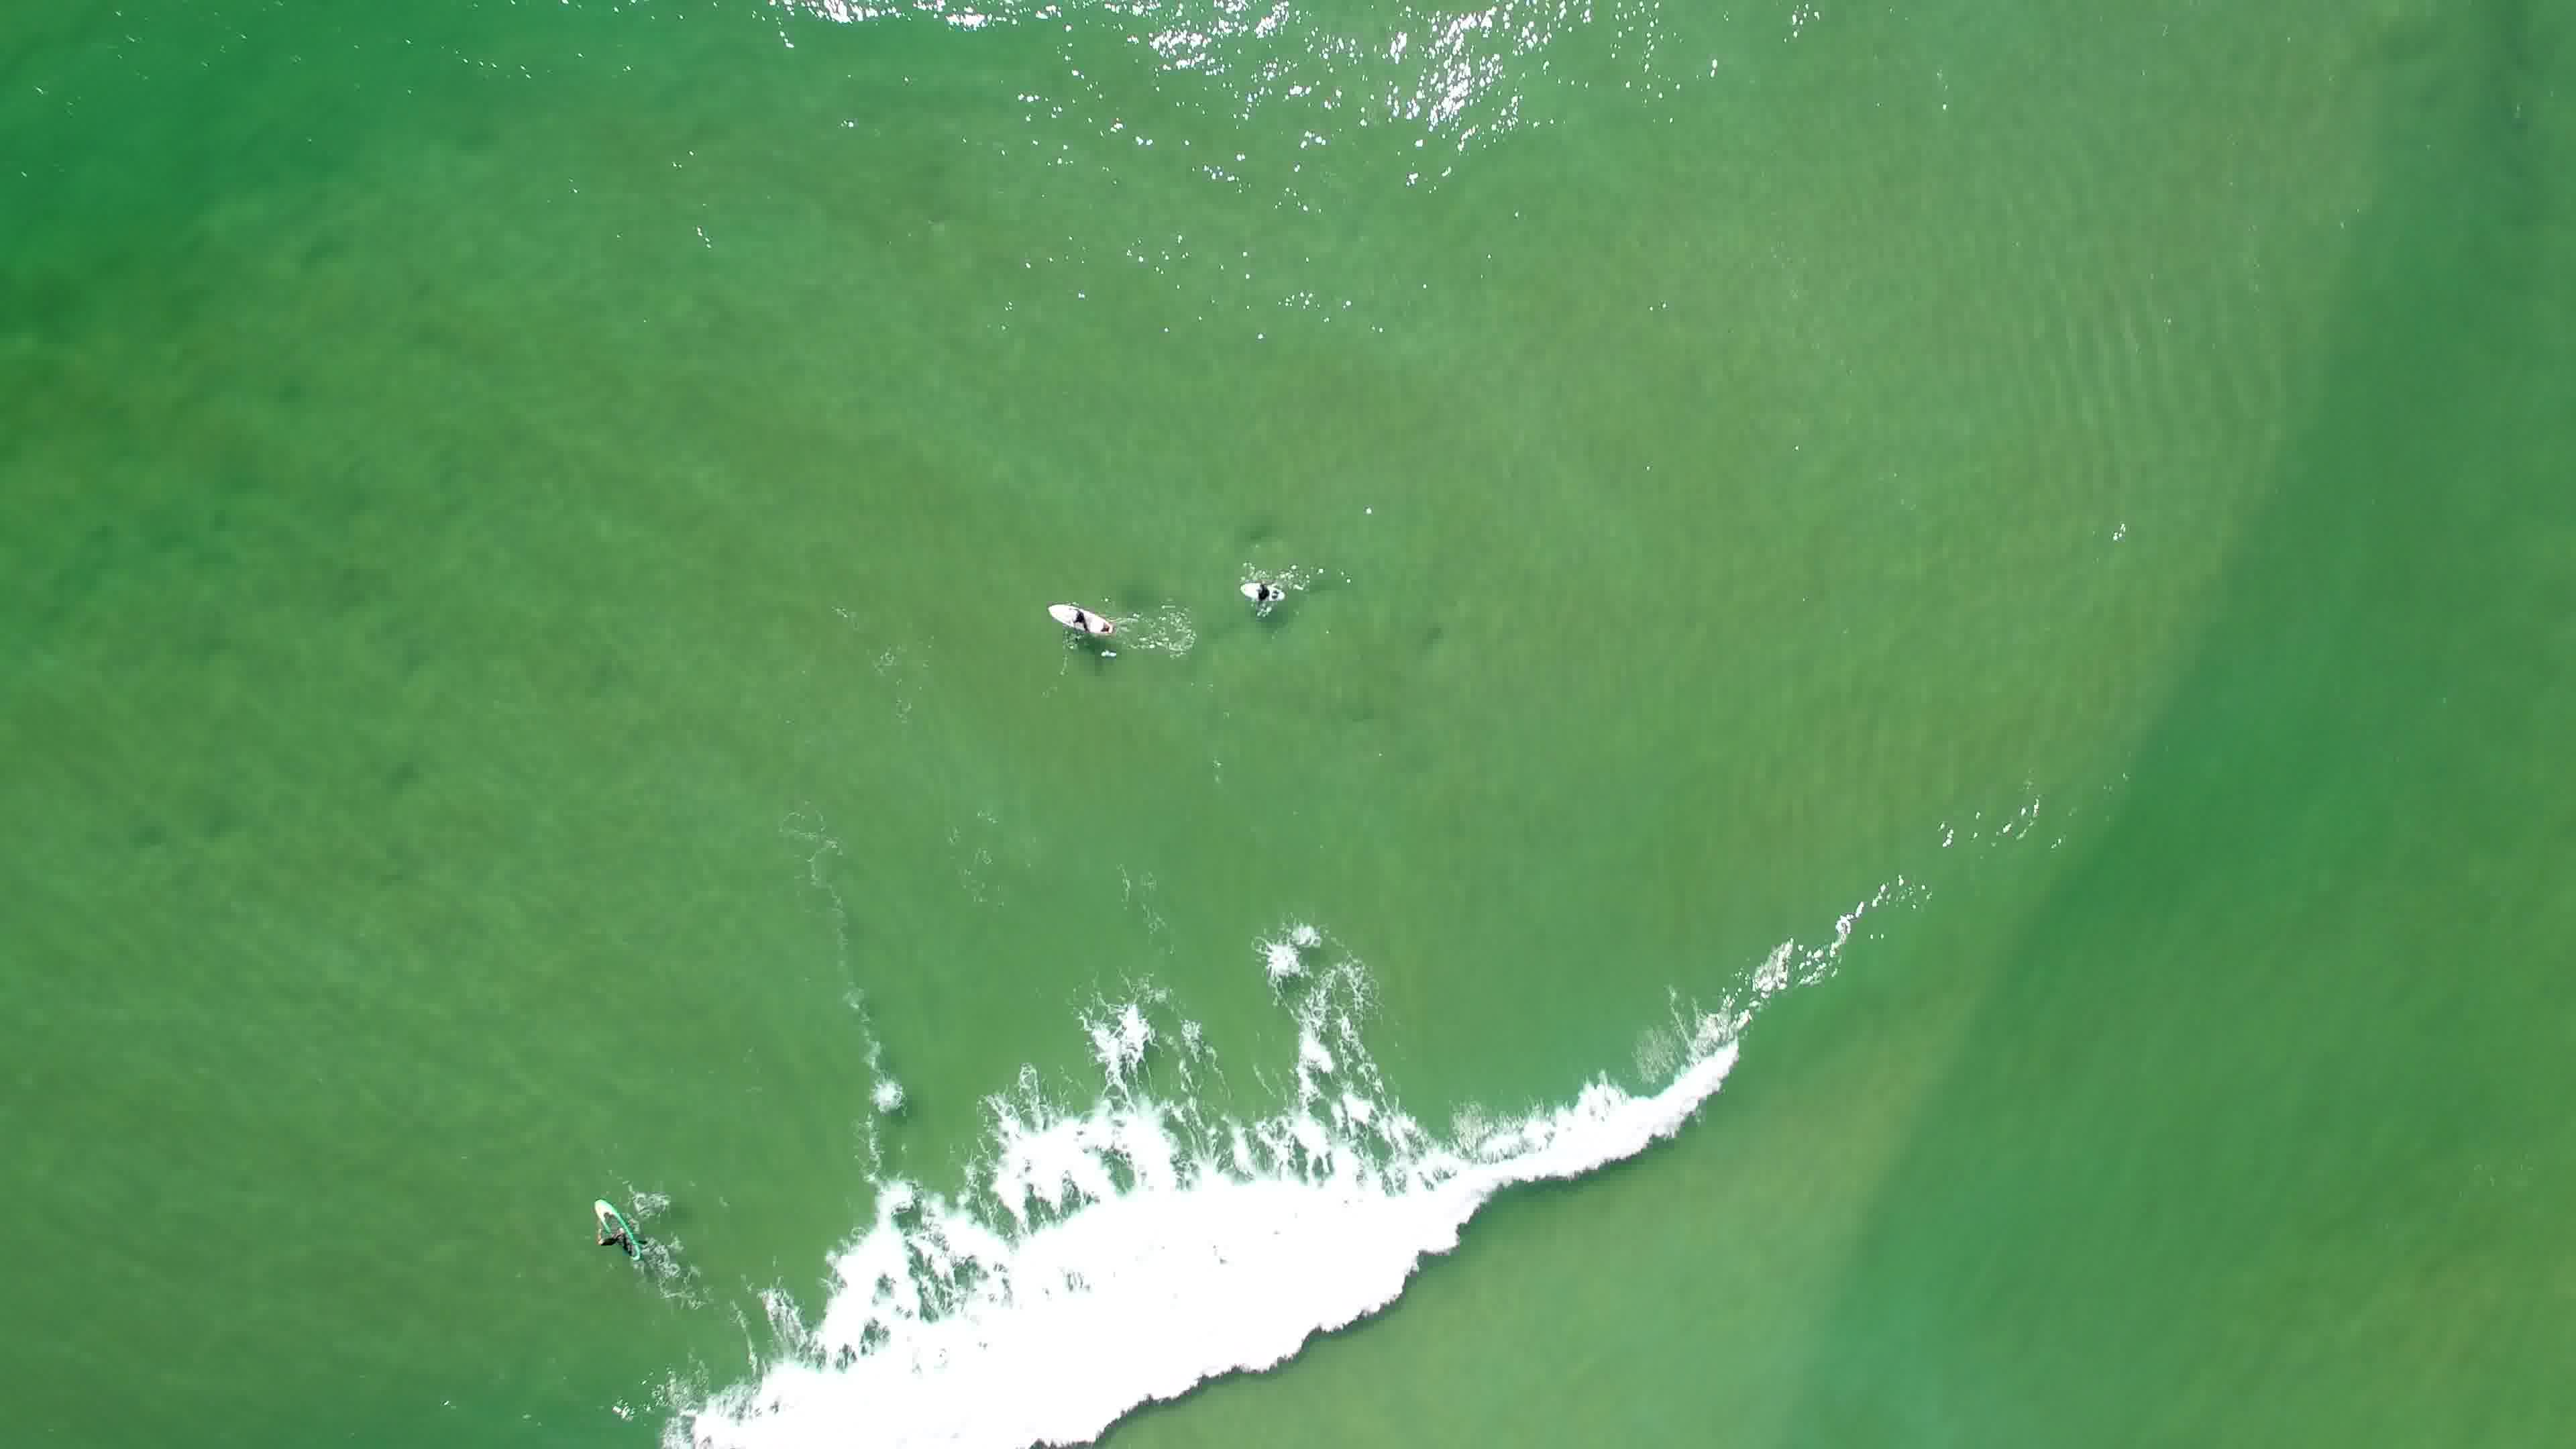surfer: (586, 1191, 656, 1263), (1039, 596, 1127, 644), (1231, 571, 1299, 610)
